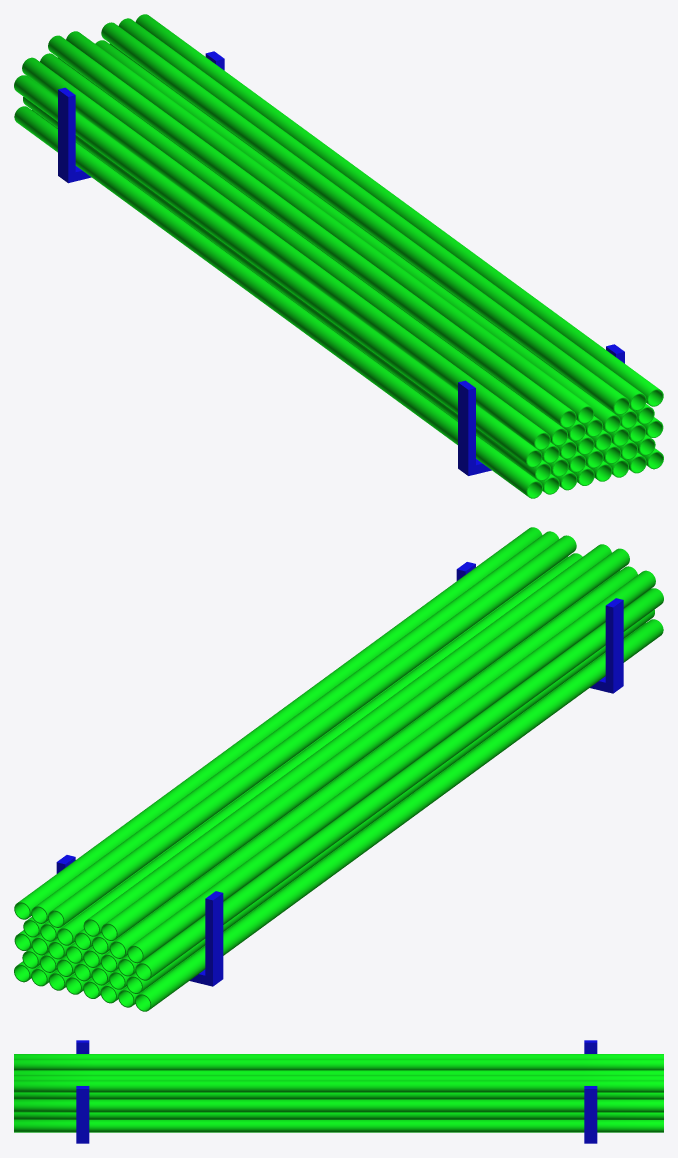
The model's file is Pipe_Group_high.fbx.
3 views of the same model, one above another, from view 1: azimuth 30°, elevation 25°; view 2: azimuth 150°, elevation 25°; view 3: azimuth 270°, elevation 25° (orthographic). The views are drawn at different scales.
Parts seen in each view (by area): view 1: Pipe_Group_high; view 2: Pipe_Group_high; view 3: Pipe_Group_high.
Boxes of the visible parts, x1,y1,x2,y2 form: Pipe_Group_high: (14,14,663,498); Pipe_Group_high: (14,527,663,1011); Pipe_Group_high: (14,1040,663,1143).
Size of the model in its own units: 531 by 289 by 3010.
